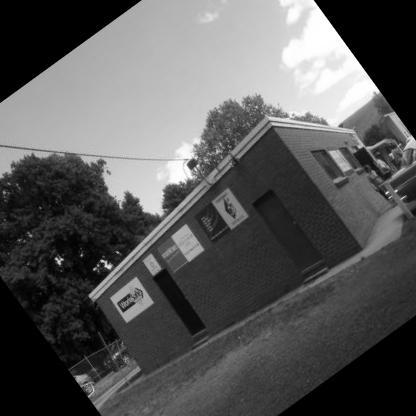car: (365, 131, 416, 226)
